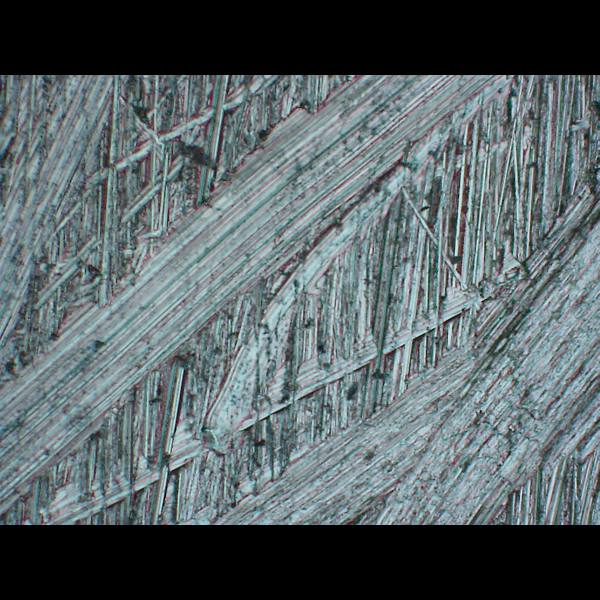d: (0, 75, 595, 522)
